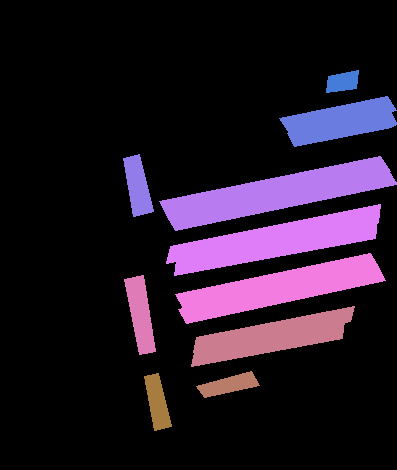parkingspot: (159, 156, 390, 216), (166, 170, 397, 230), (166, 204, 380, 263), (178, 267, 385, 323), (174, 219, 377, 275), (175, 253, 379, 308), (193, 306, 354, 352), (191, 321, 344, 366), (279, 96, 396, 133), (287, 111, 397, 146), (124, 275, 155, 354), (123, 154, 153, 216), (196, 371, 259, 397), (144, 373, 171, 430), (326, 70, 358, 92)
